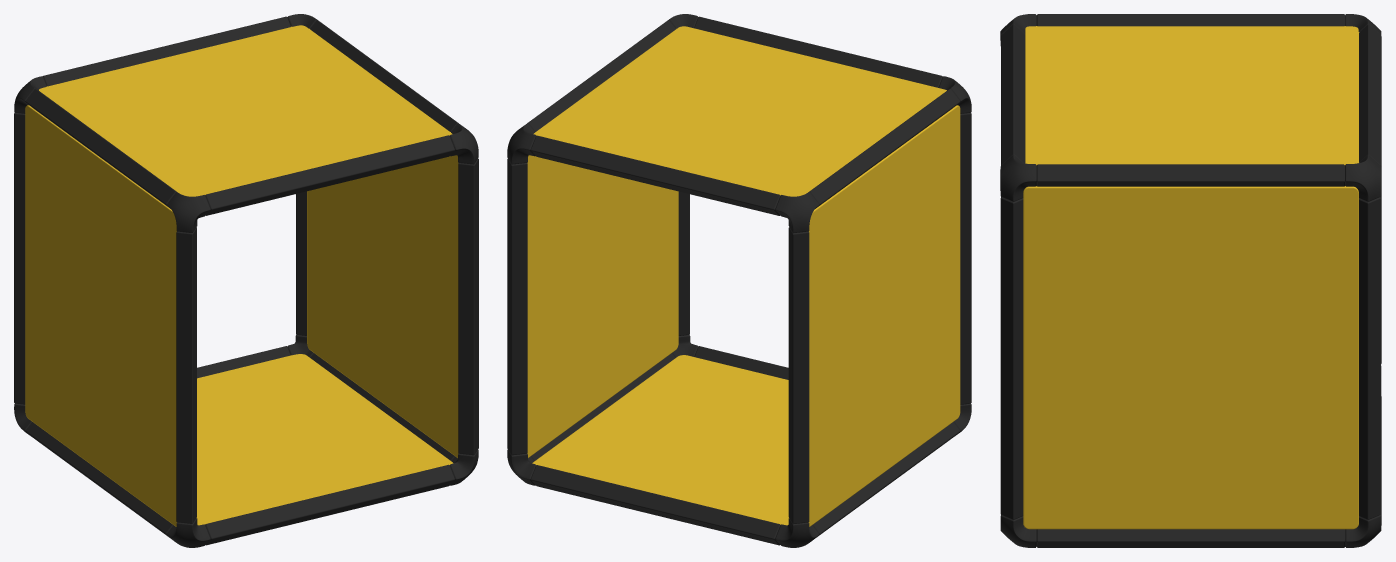
3 views of the same model, side by side, from view 1: azimuth 30°, elevation 25°; view 2: azimuth 150°, elevation 25°; view 3: azimuth 270°, elevation 25° (orthographic). The views are drawn at different scales.
Visible parts, largest first — view 1: 329x329x374; view 2: 329x329x374; view 3: 329x329x374.
Boxes of the visible parts, left/top/right/bottom form: 329x329x374: left=14, top=14, right=478, bottom=547; 329x329x374: left=507, top=14, right=971, bottom=547; 329x329x374: left=1000, top=14, right=1381, bottom=547.
Bounding box in the file's own units: 0.4067 × 0.4516 × 0.4063.
